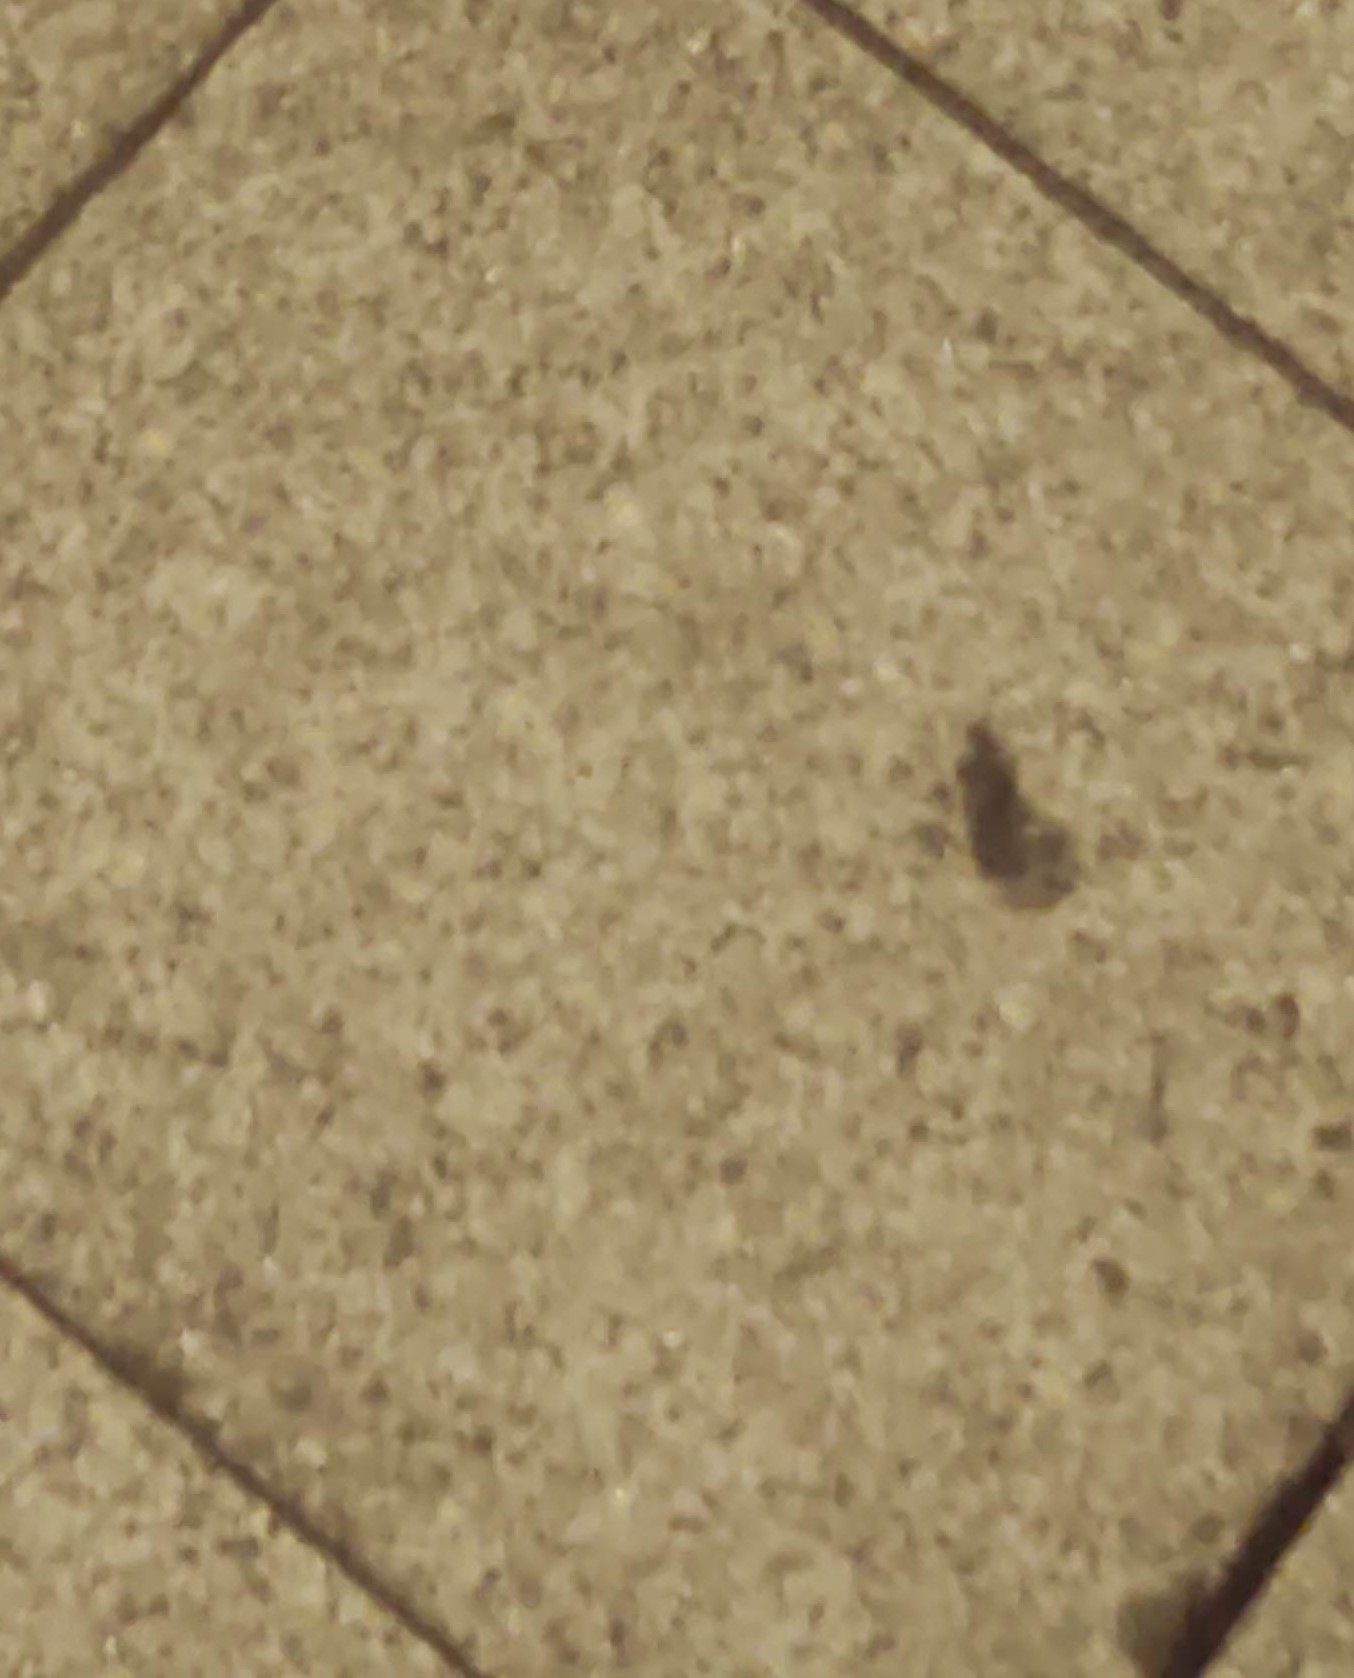grey spot: (952, 715, 1082, 913)
